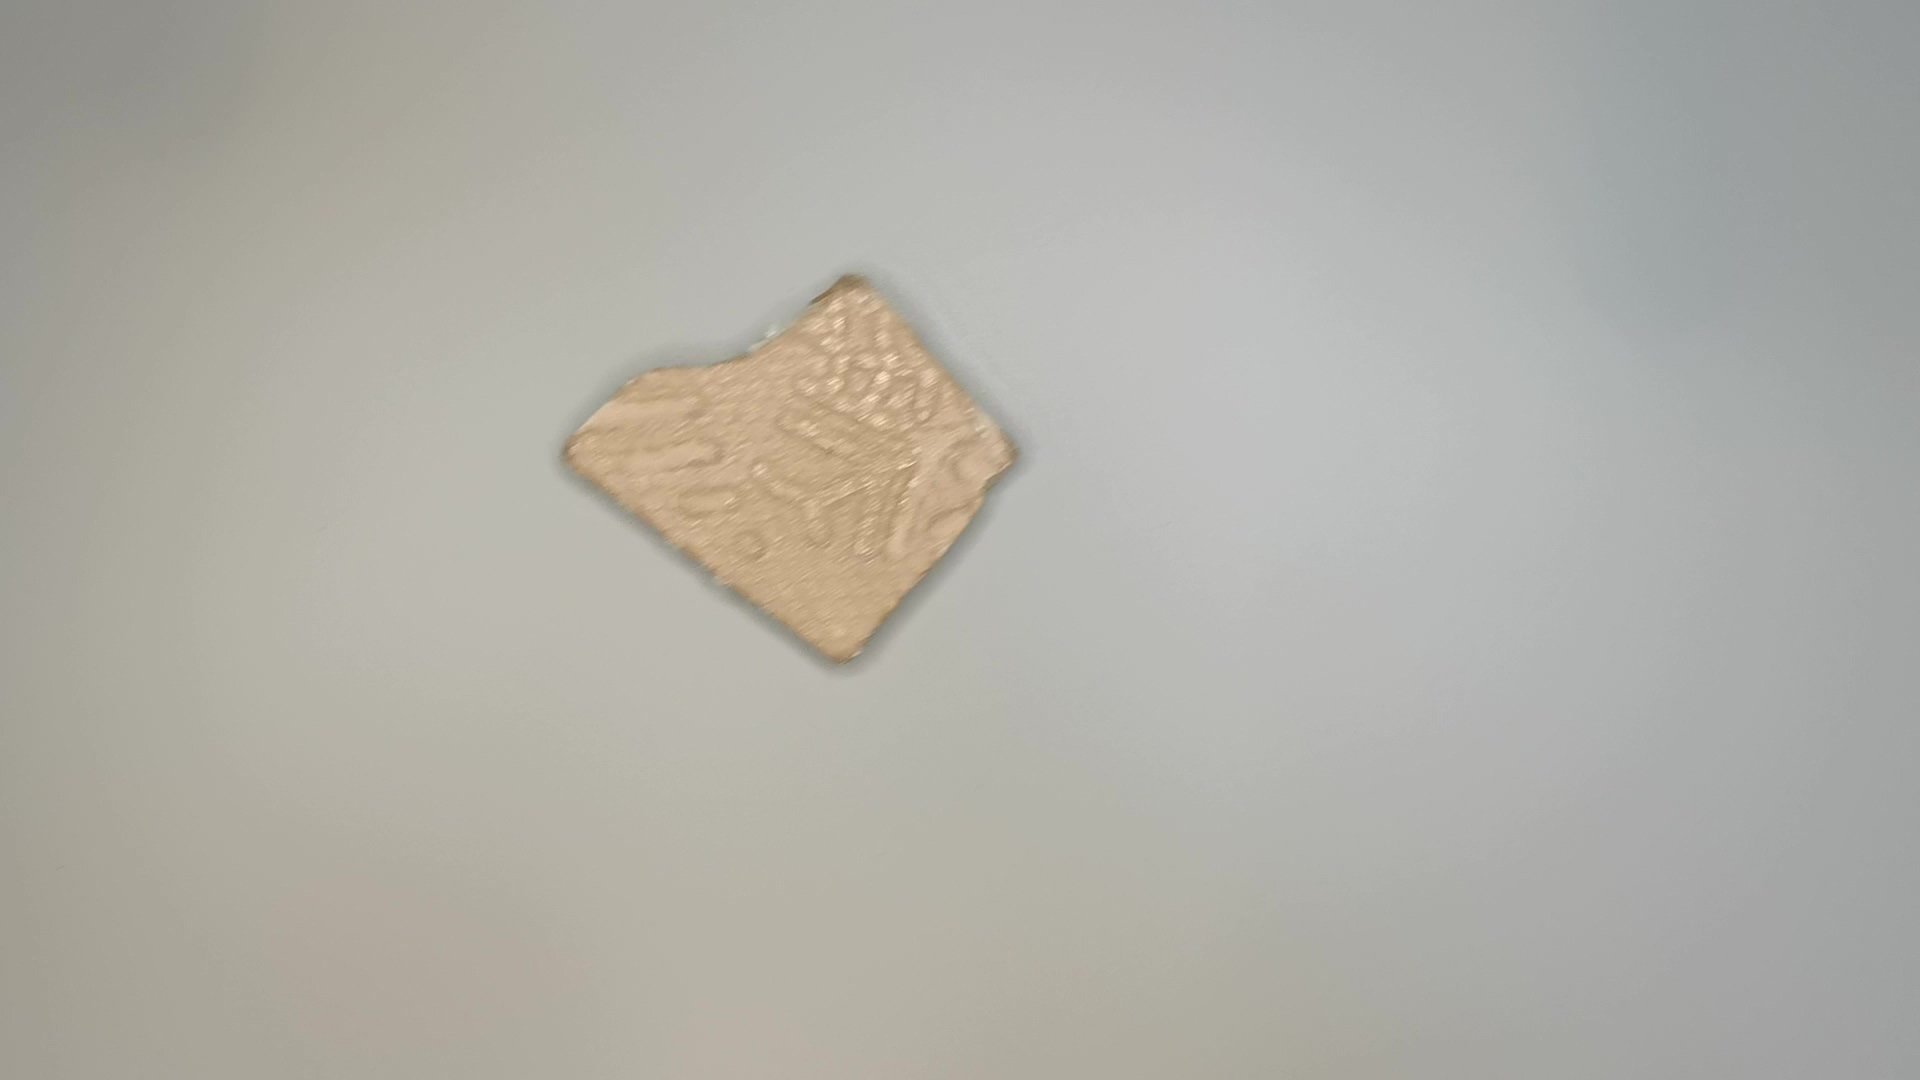ceramic: (549, 266, 1033, 675)
